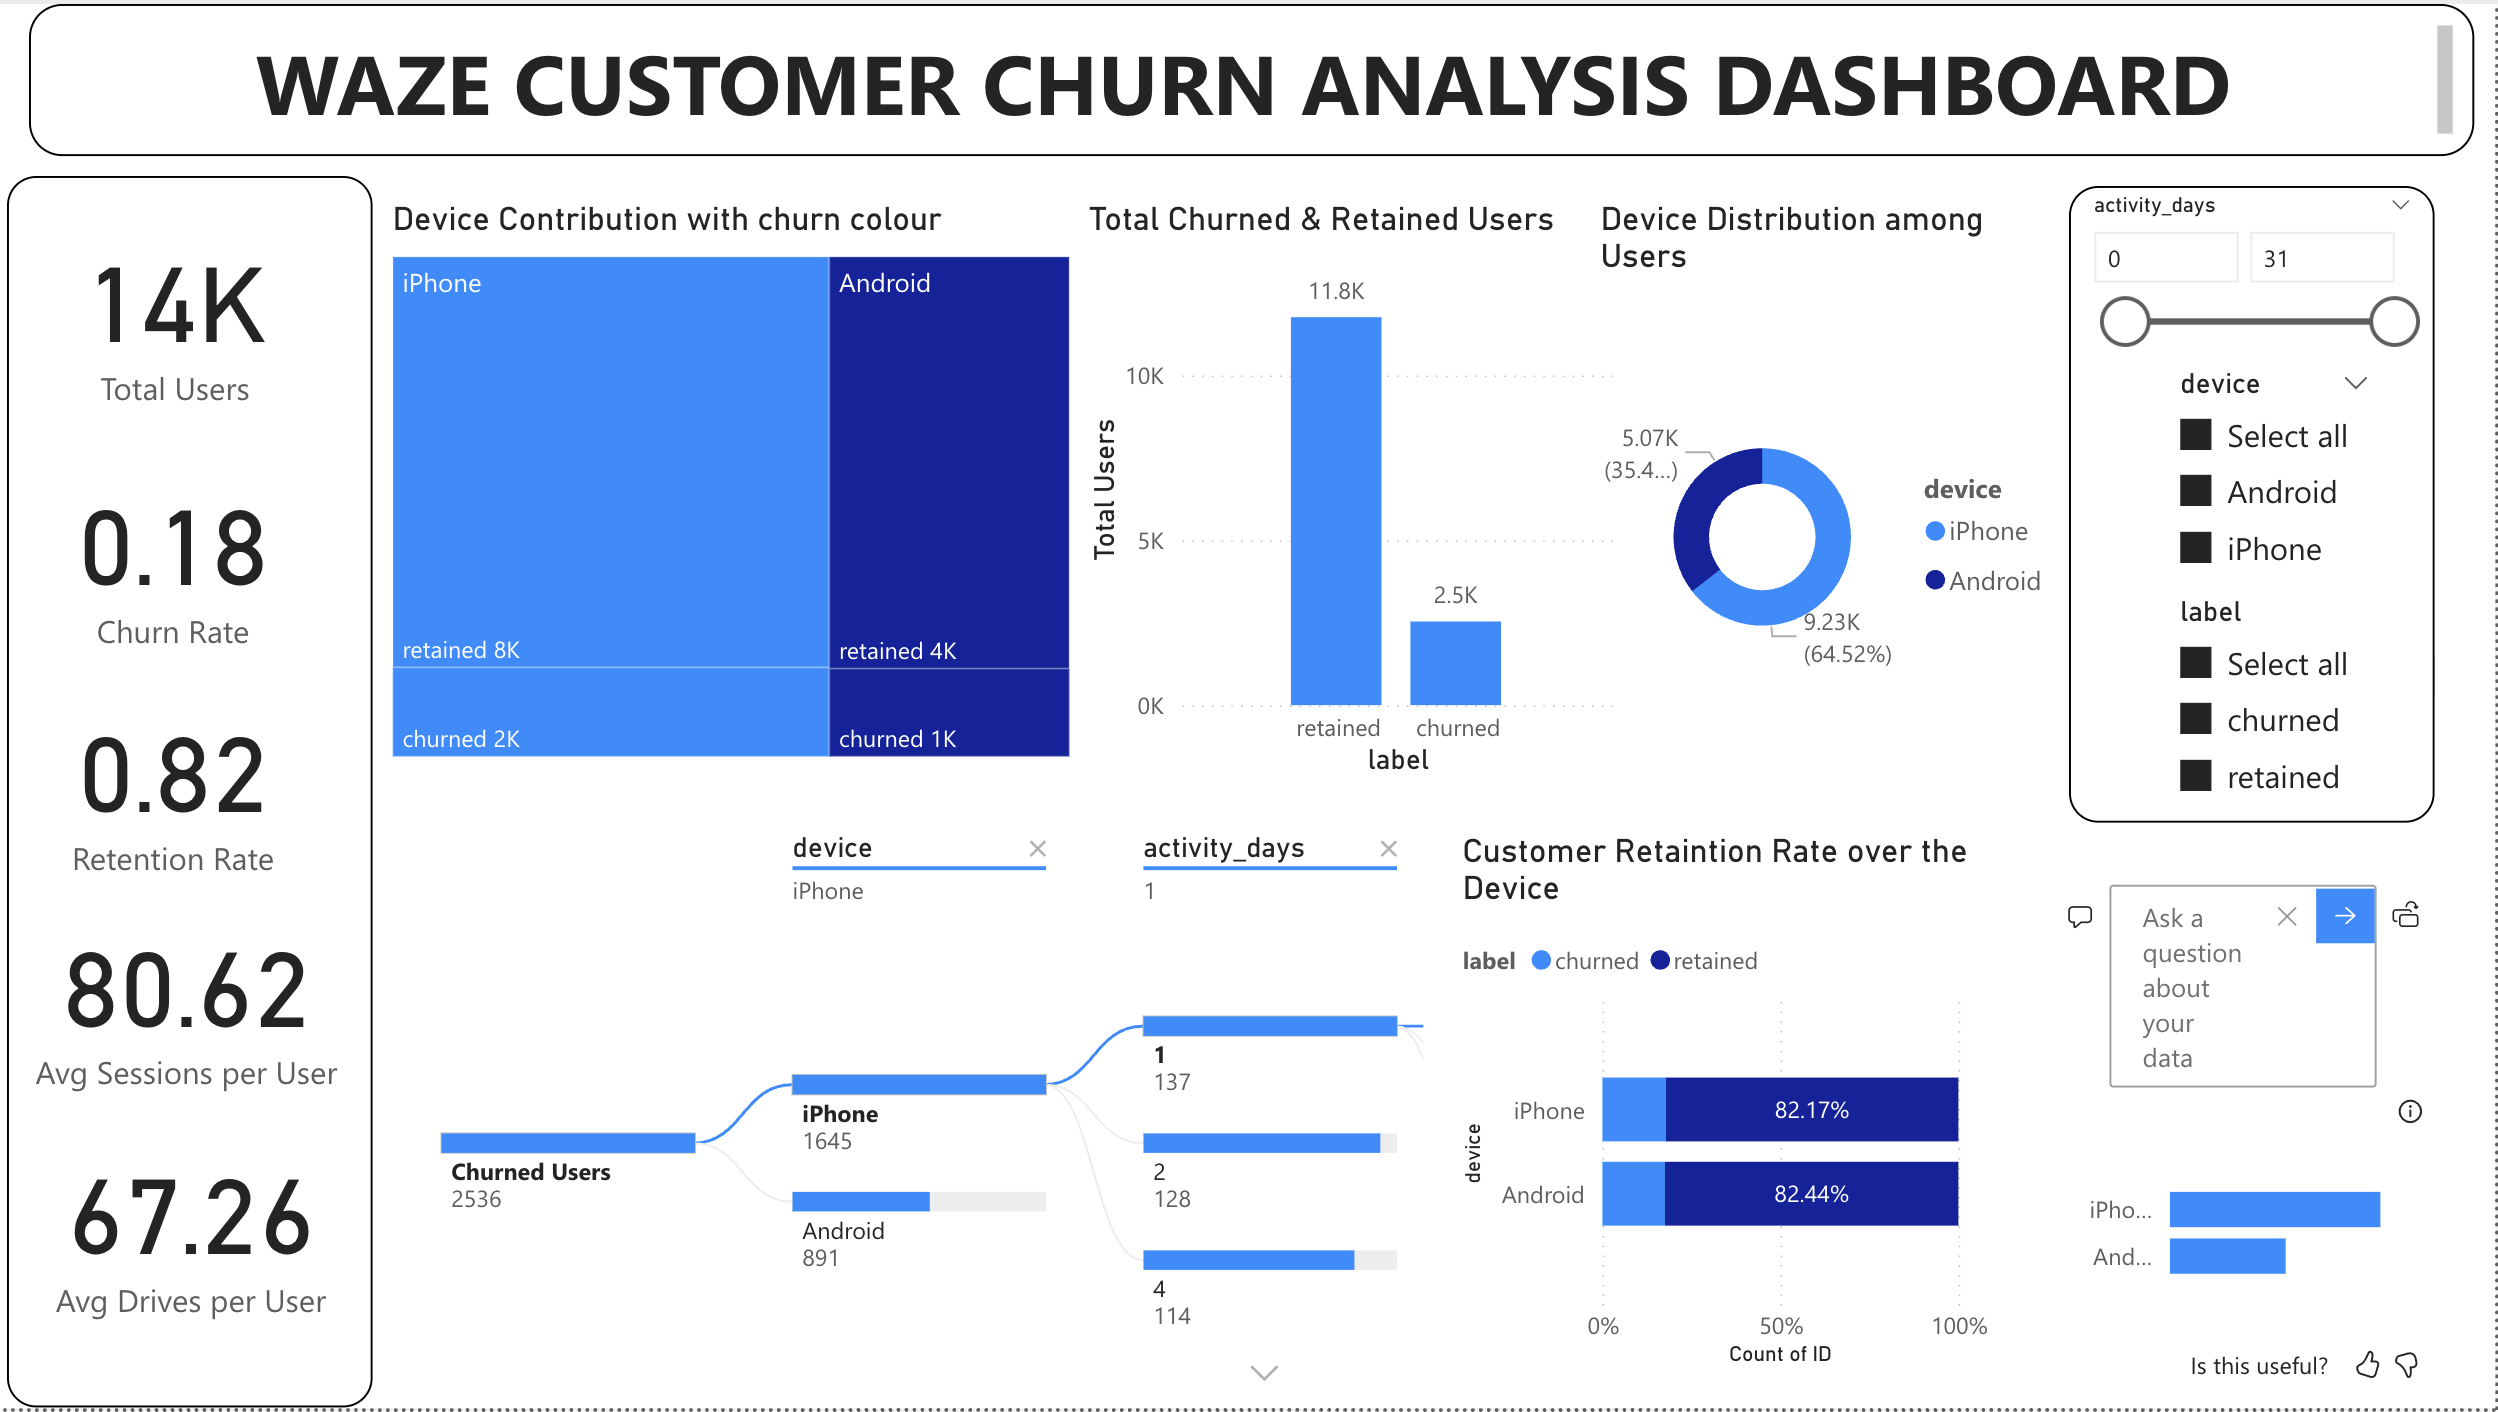

What the dashboard file says about the page in this screenshot:
{"tool":"powerbi","page":{"name":"Churn by device","canvas":[1280,720],"ordinal":3},"visuals":[{"type":"barChart","fields":{"Category":["waze_dataset.device"],"Y":["waze_dataset.Retained Users","waze_dataset.Churned Users"]},"box":[10,0,280,280],"z":0}]}

Visuals, with their boxes in screenshot pixels (x1, y1, x2, y2), scaled from the page's 1280x720 canvas onto the 2498x1412 screenshot:
barChart - waze_dataset.device x waze_dataset.Retained Users: [x1=20, y1=0, x2=566, y2=549]
